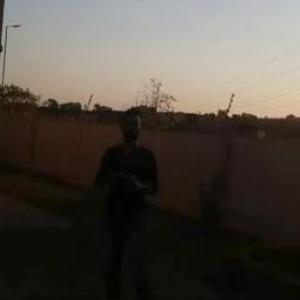follow: (85, 99, 168, 299)
